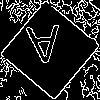A: (25, 25, 63, 74)
